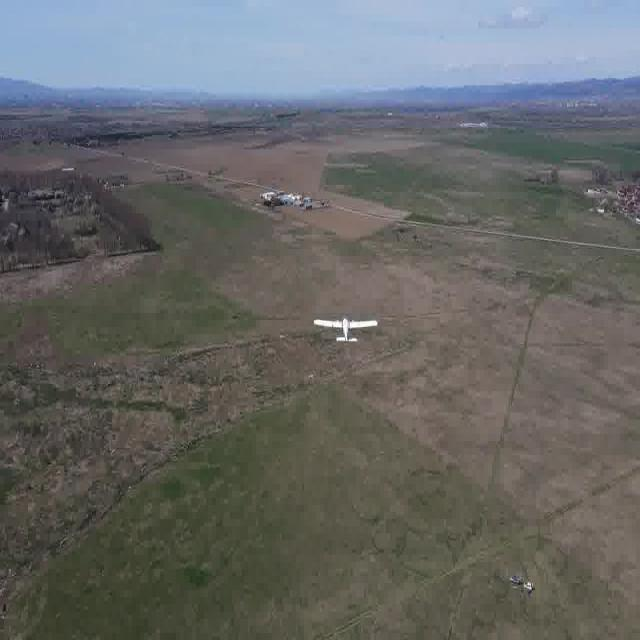iha: (343, 301, 349, 346)
